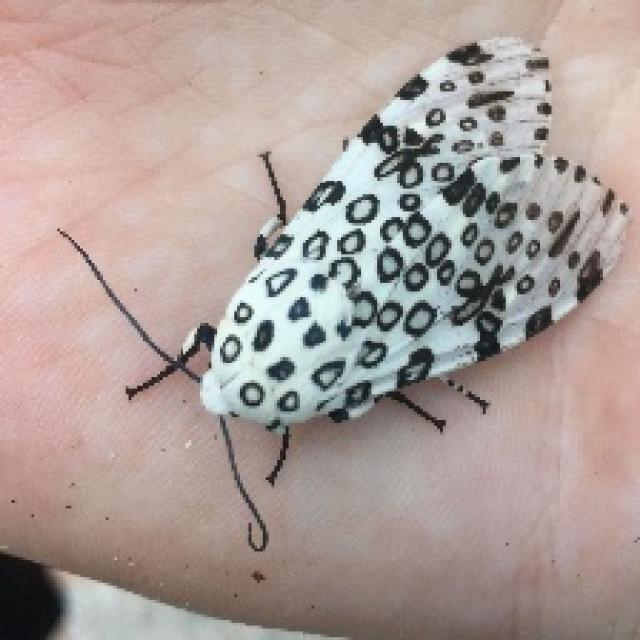butterfly: (54, 31, 632, 552)
